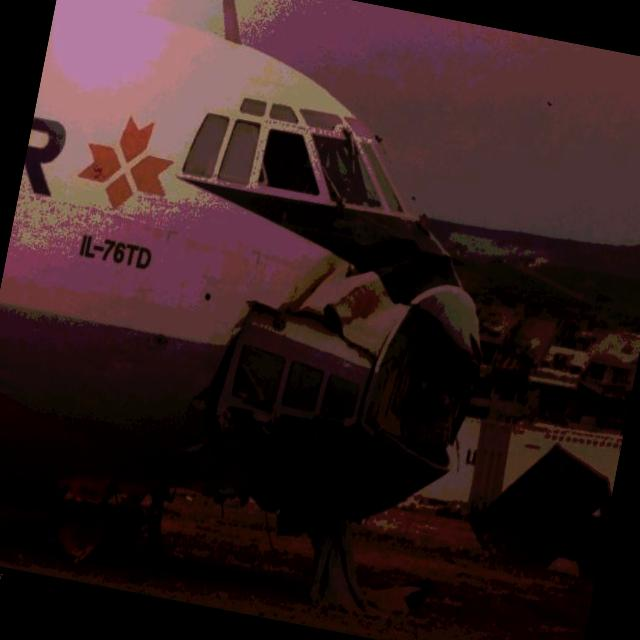dent: (173, 388, 218, 466)
